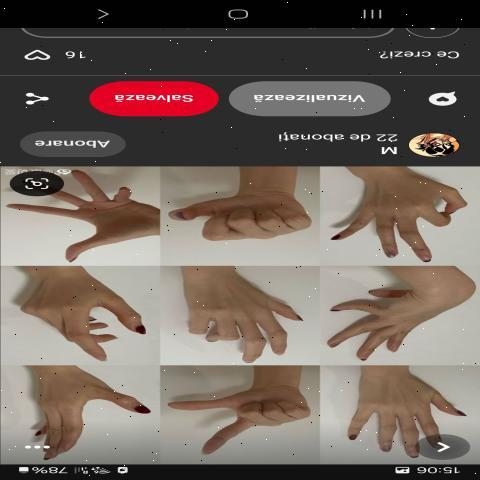Hands: (12, 167, 170, 270), (5, 366, 153, 465), (169, 269, 311, 372), (326, 172, 479, 264), (326, 371, 470, 462)
